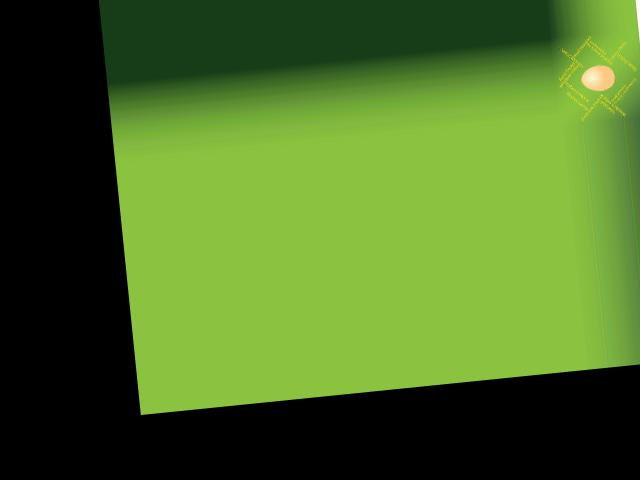egg: (579, 63, 615, 92)
